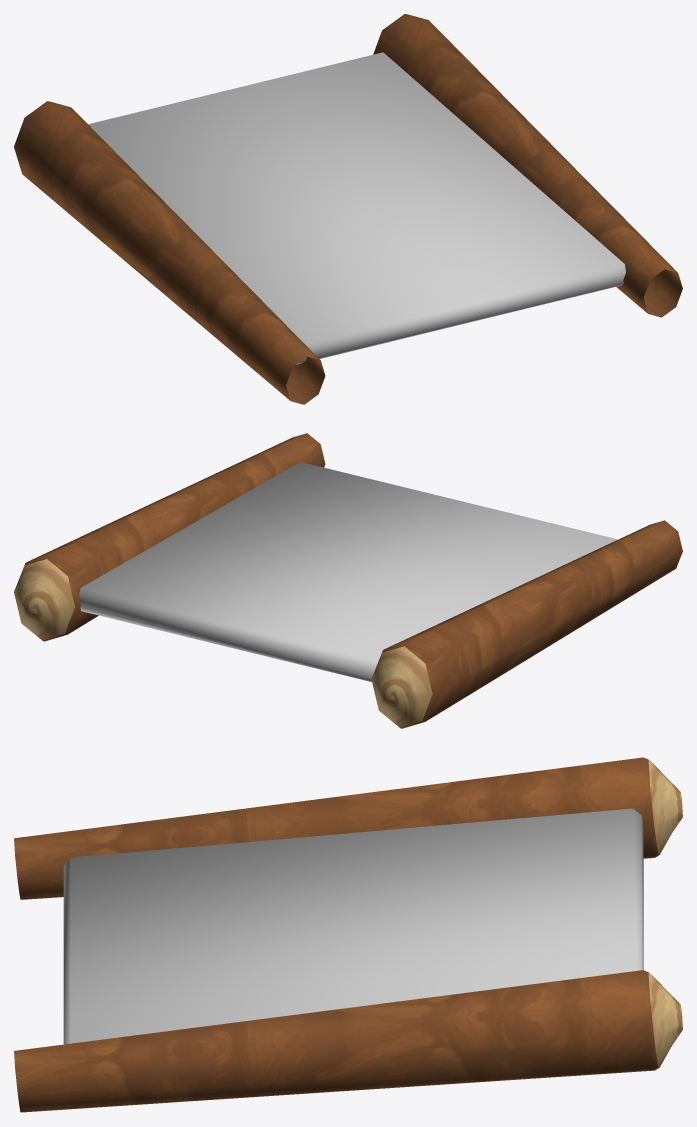
Rendered from Platform2.fbx.
3 views of the same model, one above another, from view 1: azimuth 30°, elevation 25°; view 2: azimuth 150°, elevation 25°; view 3: azimuth 270°, elevation 25° (orthographic). The views are drawn at different scales.
Visible parts, largest first — view 1: PlatformSmall; view 2: PlatformSmall; view 3: PlatformSmall.
Boxes of the visible parts, bbox=[...] form: PlatformSmall: bbox=[14, 14, 682, 404]; PlatformSmall: bbox=[14, 433, 682, 728]; PlatformSmall: bbox=[14, 757, 682, 1112].
Bounding box in the file's own units: 26.07 × 6.9 × 29.37.
